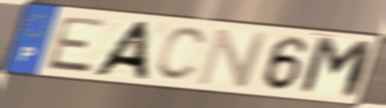6: (262, 34, 312, 94)
A: (87, 20, 155, 82)
C: (152, 25, 210, 84)
E: (43, 14, 110, 75)
M: (295, 35, 378, 102)
N: (194, 27, 272, 89)
